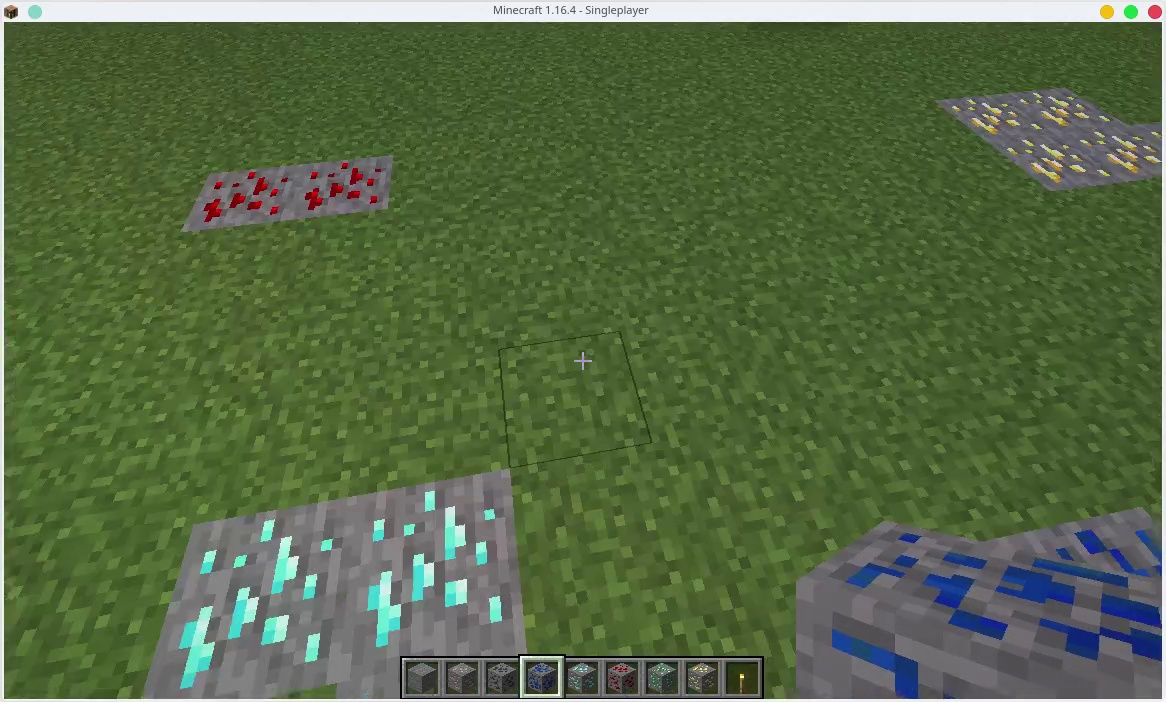gold: (939, 95, 1039, 144), (1021, 142, 1093, 193), (1103, 130, 1160, 179), (1040, 83, 1104, 126), (688, 660, 717, 690)
